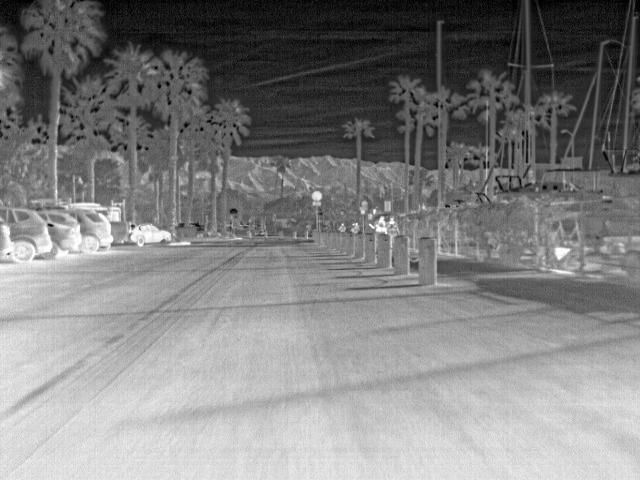car: (9, 207, 52, 264), (78, 210, 112, 252), (53, 206, 80, 255), (138, 223, 174, 245), (0, 214, 15, 264), (110, 220, 136, 248)
person: (387, 216, 400, 235), (374, 214, 387, 232)
